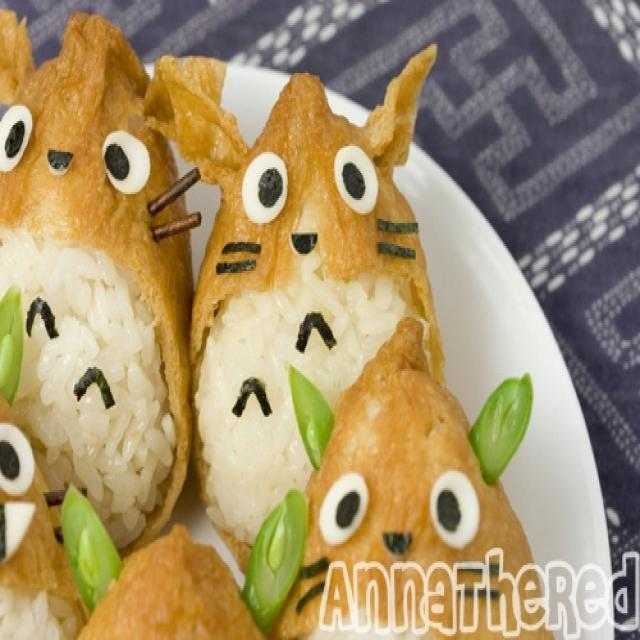寿司卷物: (4, 11, 557, 622)
